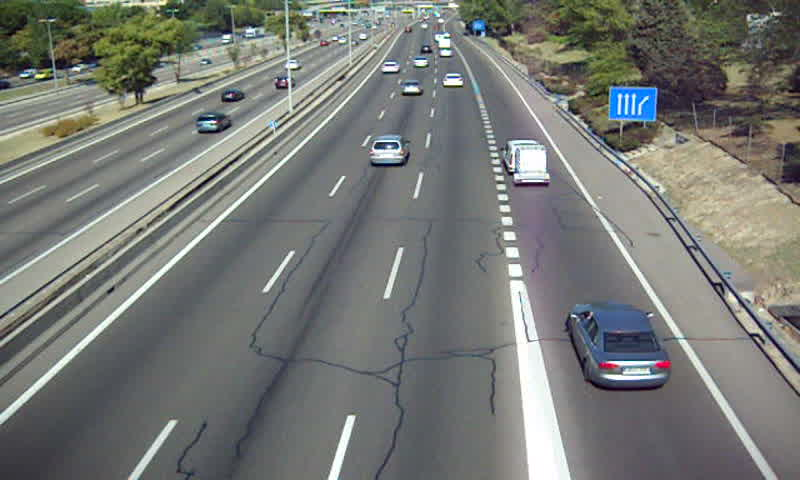car: (569, 305, 671, 387), (368, 135, 410, 167), (399, 80, 425, 96), (442, 73, 464, 89), (381, 60, 400, 75), (414, 54, 430, 69)
van: (503, 140, 543, 173)
